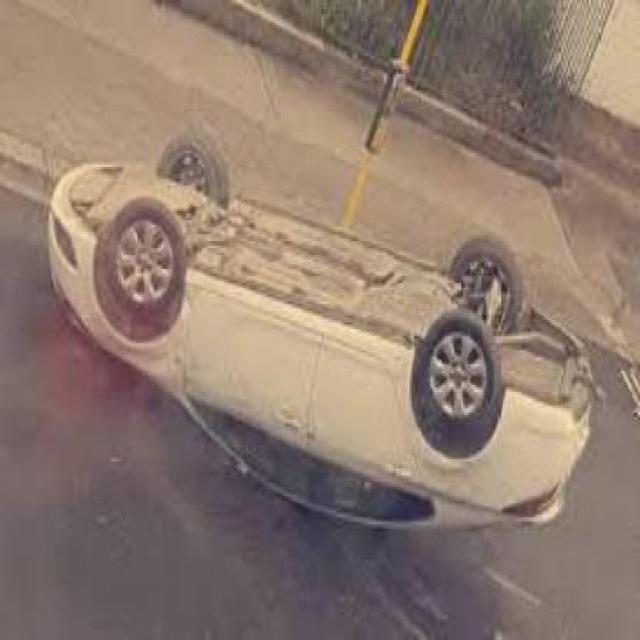accident: (43, 118, 599, 557)
